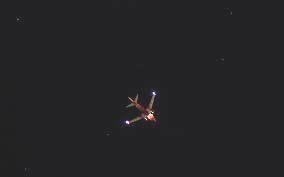Plane: (99, 75, 181, 134)
